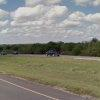Tree: (68, 41, 100, 60)
